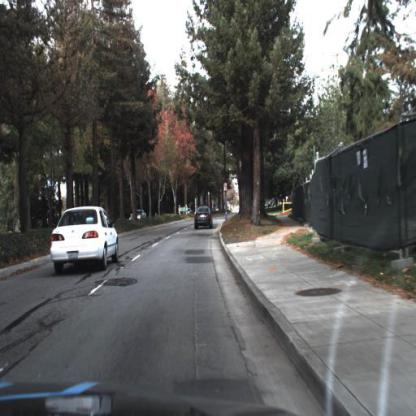car: (51, 205, 121, 275), (195, 207, 213, 231), (130, 208, 148, 222)
